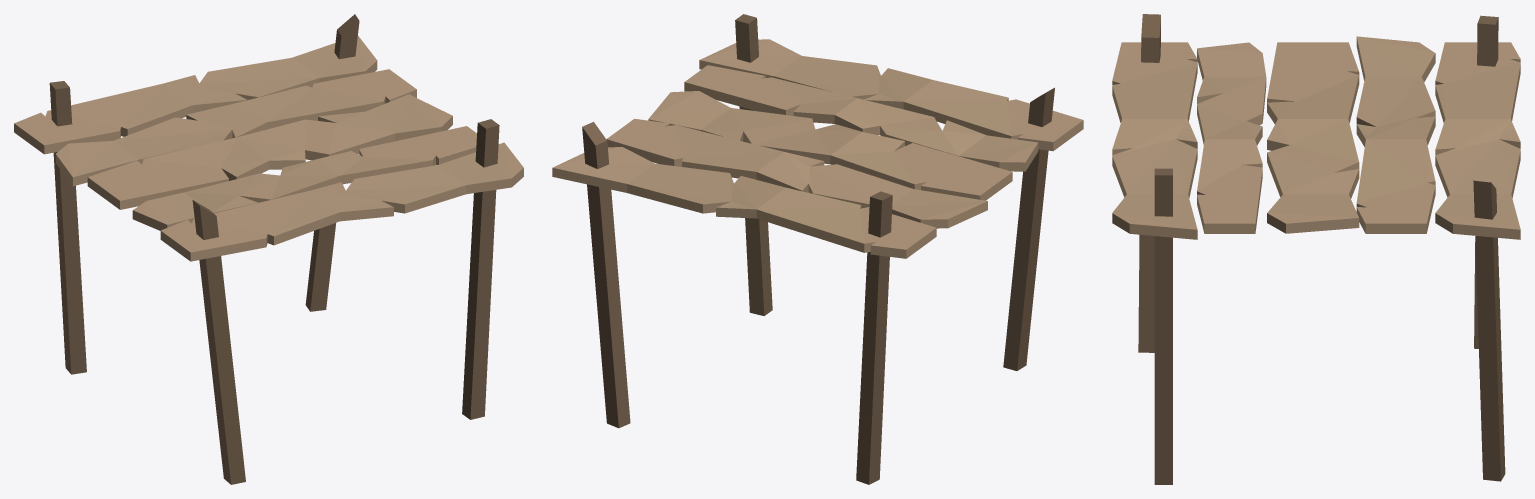
The model's file is Platform_3.fbx.
The picture shows the model from 3 angles, left to right: view 1: azimuth 30°, elevation 25°; view 2: azimuth 150°, elevation 25°; view 3: azimuth 270°, elevation 25°; orthographic projection. The views are drawn at different scales.
Parts seen in each view (by area): view 1: Platform_3; view 2: Platform_3; view 3: Platform_3.
Part boxes in pixels (x1,y1,x2,y2): Platform_3: [14, 14, 523, 484]; Platform_3: [552, 14, 1083, 484]; Platform_3: [1112, 14, 1520, 484].
Bounding box in the file's own units: 339 × 259 × 302.
Materials: 1 (1 with a texture image).
